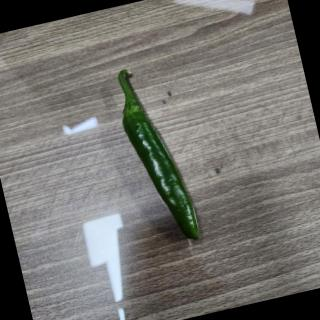Cabai Hijau: (110, 61, 203, 252)
